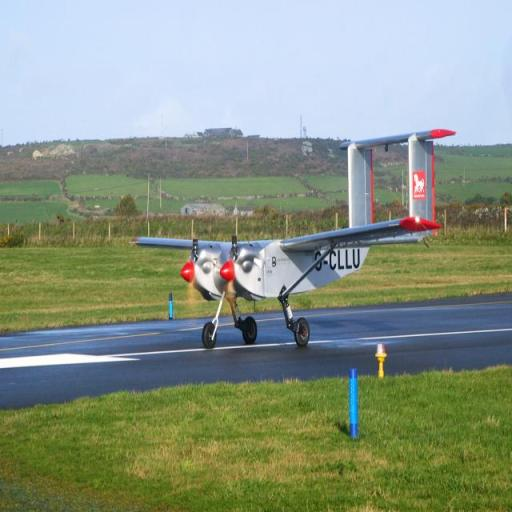uav: (134, 123, 474, 350)
